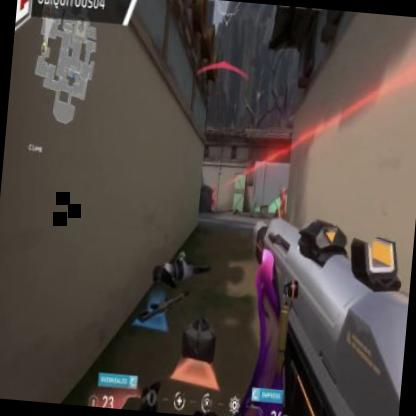enemy: (277, 185, 288, 221), (209, 188, 217, 212)
enemy_head: (282, 187, 286, 194), (212, 188, 216, 193)
